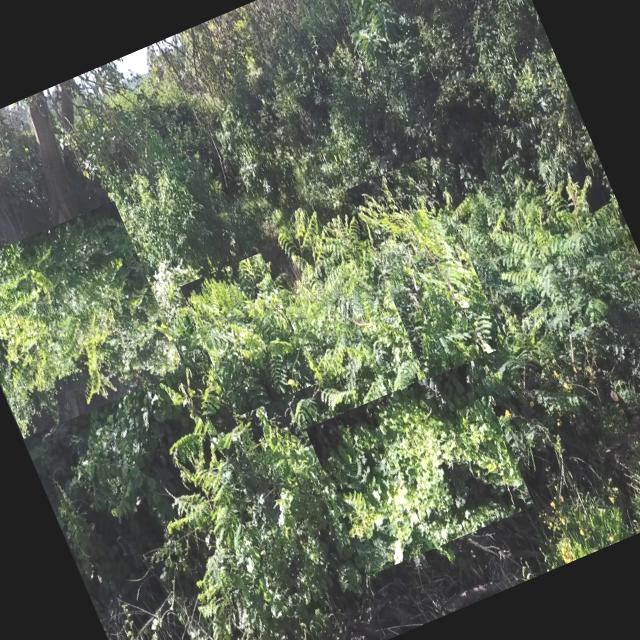Mysore-Thorn-Weed: (114, 339, 387, 640), (305, 358, 534, 576), (0, 200, 185, 438), (470, 144, 640, 394), (346, 156, 507, 380), (266, 190, 422, 409), (180, 252, 316, 417)
